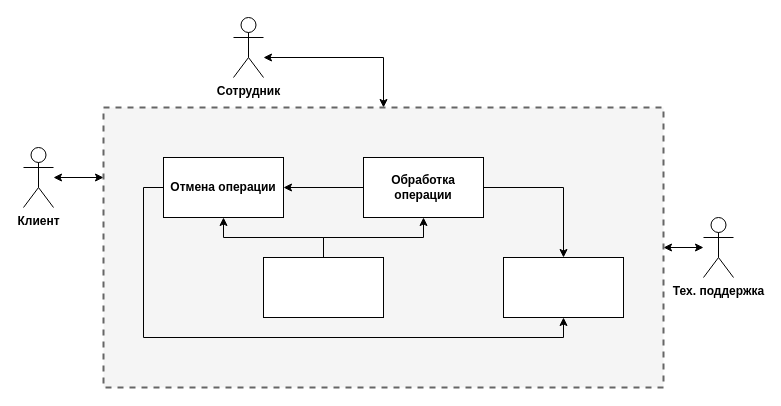
This 781x406 diagram has some shape labels left out. The centre of each missing label's shape, as x and y in pixels:
Журналирование операций: pixel 563 287
Регистрация операции: pixel 323 287
